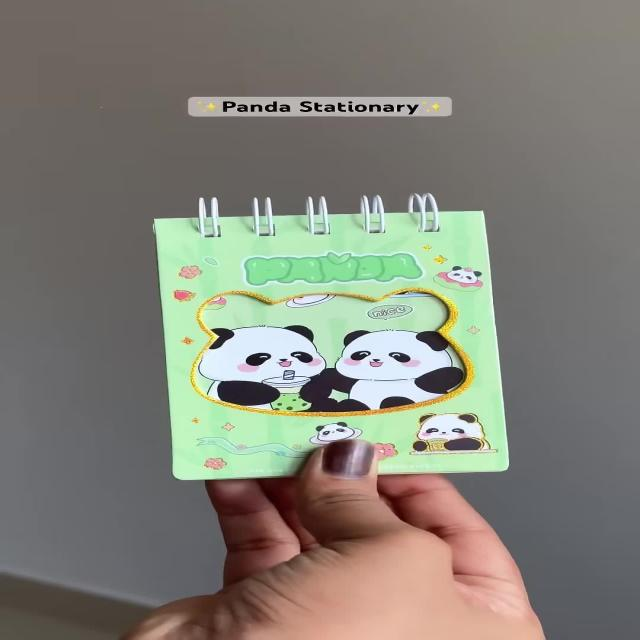telephone book: (122, 178, 557, 495)
